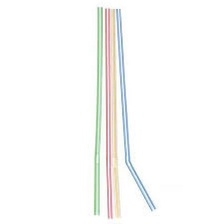drinking_straw: (116, 5, 160, 216), (90, 4, 104, 219)
